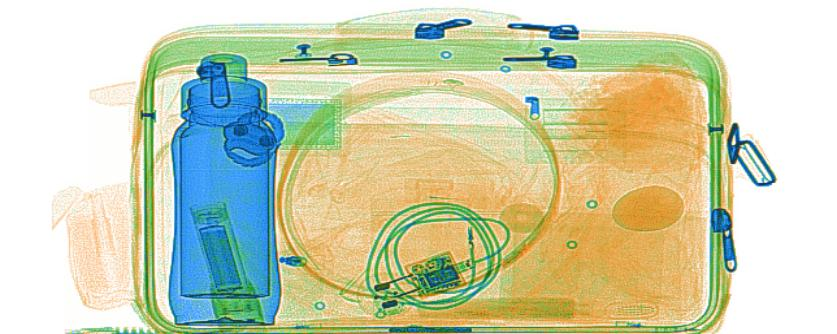battery: (198, 223, 242, 288)
